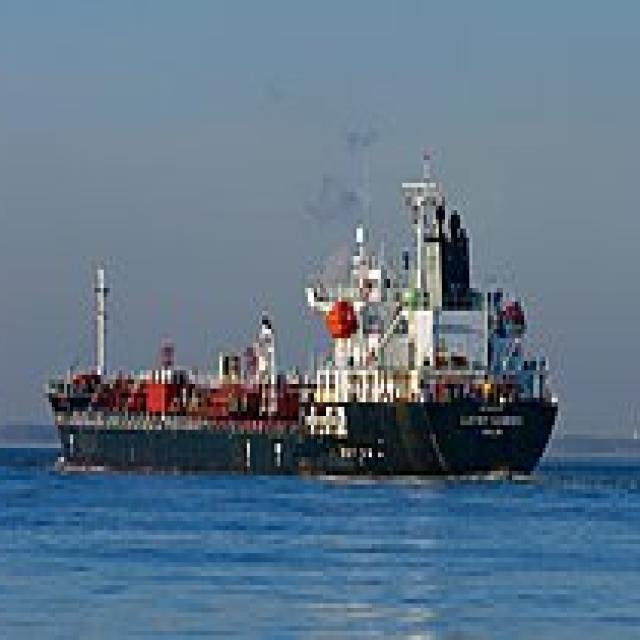Tanker: (46, 146, 564, 471)
